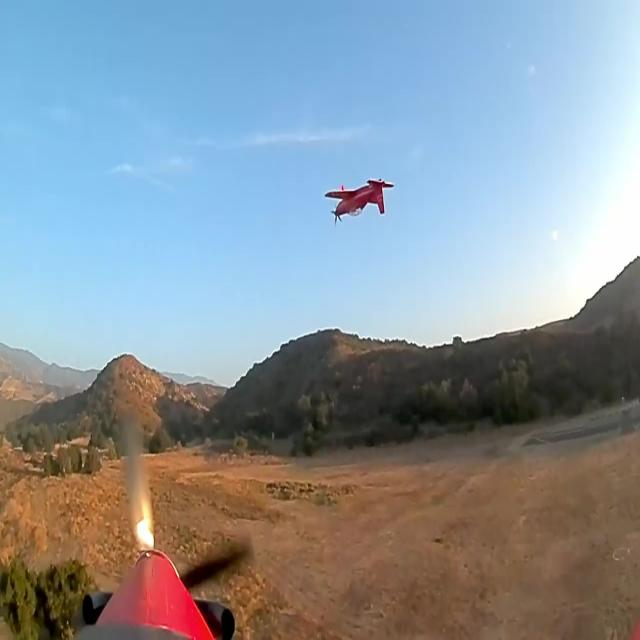iha: (358, 170, 360, 222)
